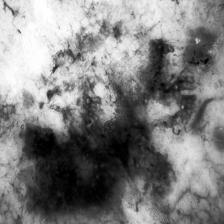Benign Marking or Mole: (18, 94, 180, 202)
